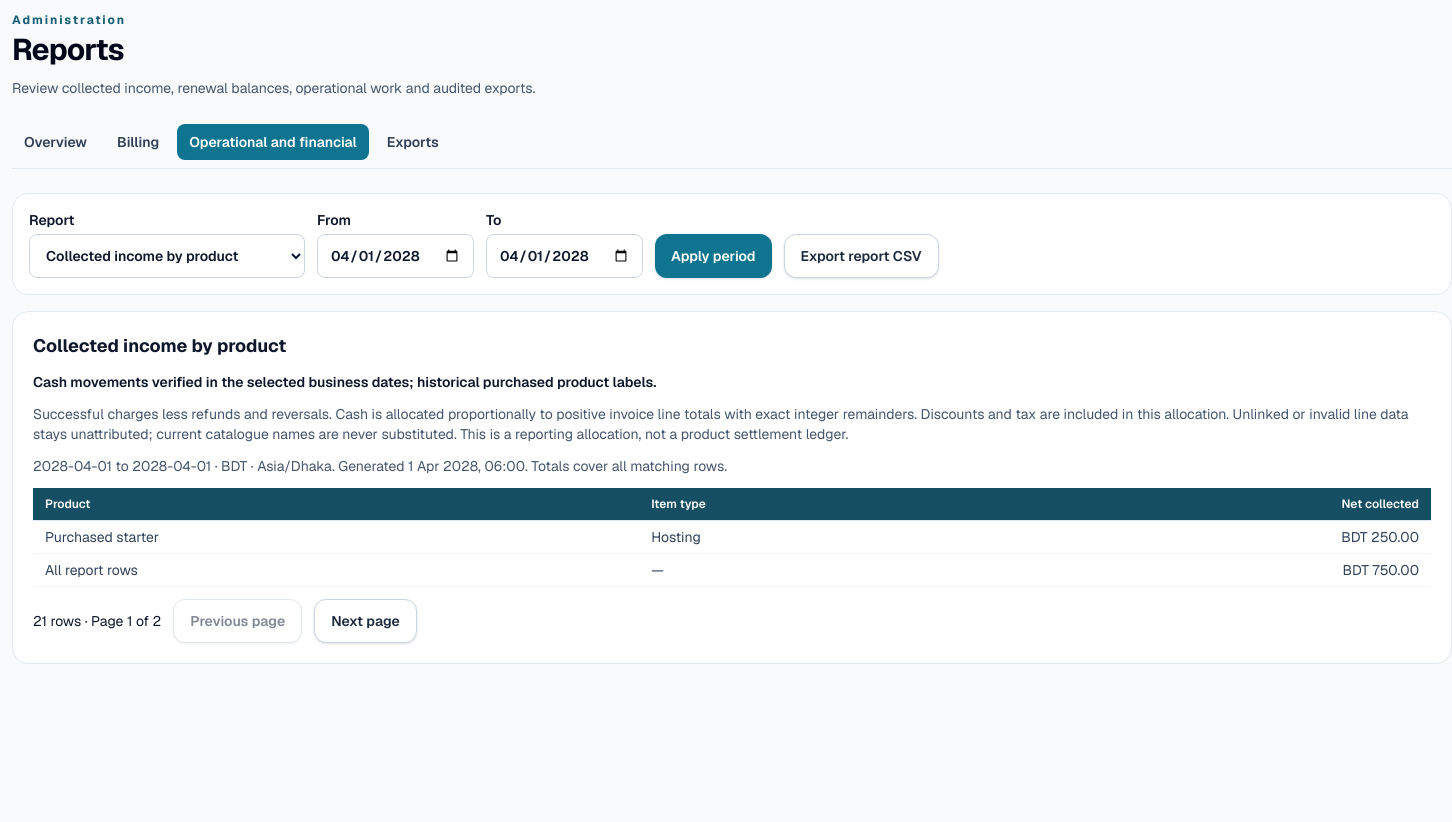
Test: paginates with the applied business dates and preserves full totals
The width and height of the screenshot is (1452, 822).
Expected: the text "Purchased starter" is shown, [33,521,639,554]
Click the button "Next page": click(366, 621) [314,599,417,643]
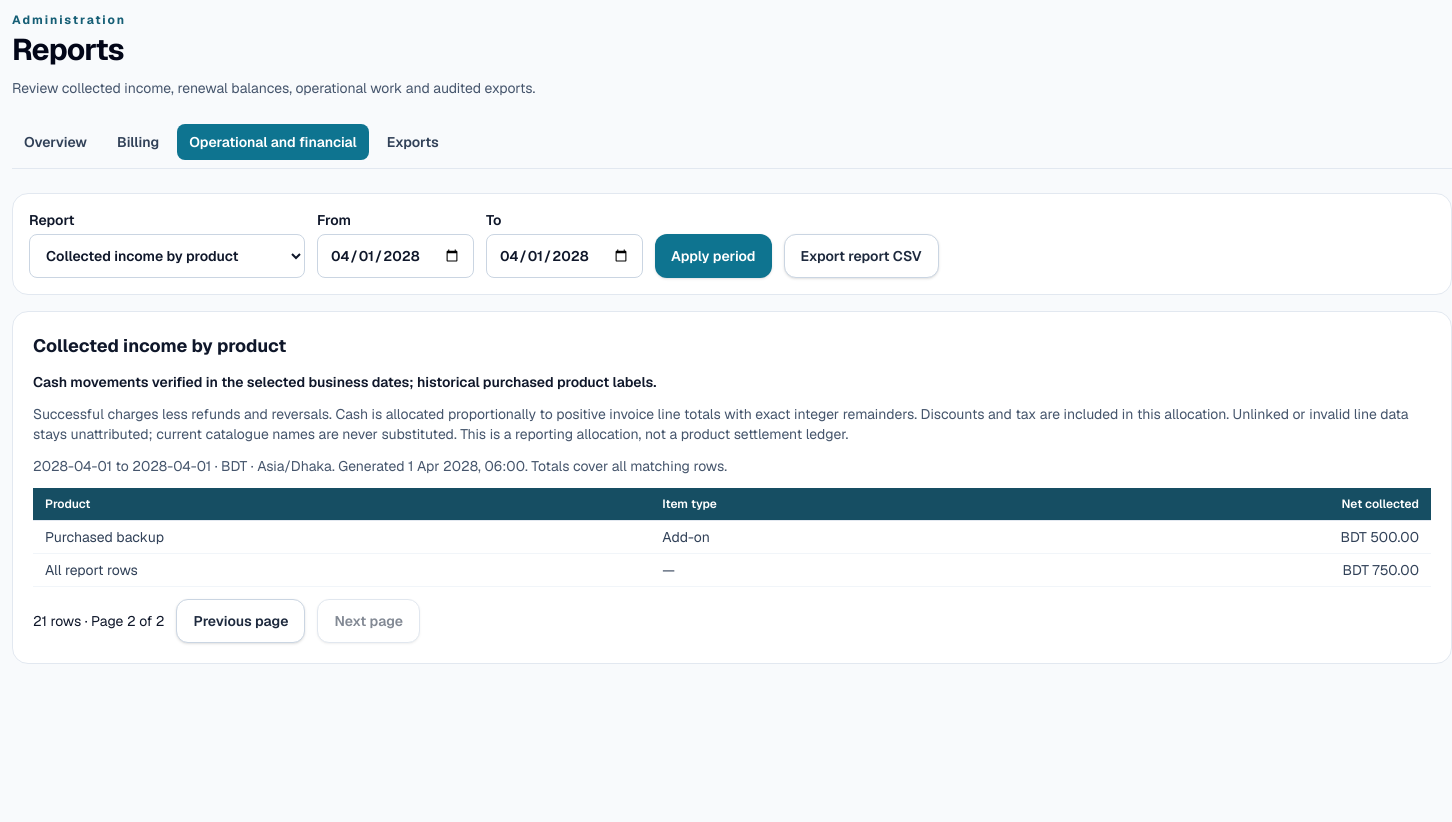
Expected: the text "BDT 750.00" is shown, [989,554,1431,586]
Expected: the text "Purchased backup" is shown, [33,521,650,554]
Expected: the button "Next page" is disabled, [317,599,420,643]
